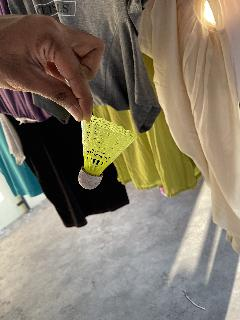shuttlecock: (79, 115, 136, 188)
